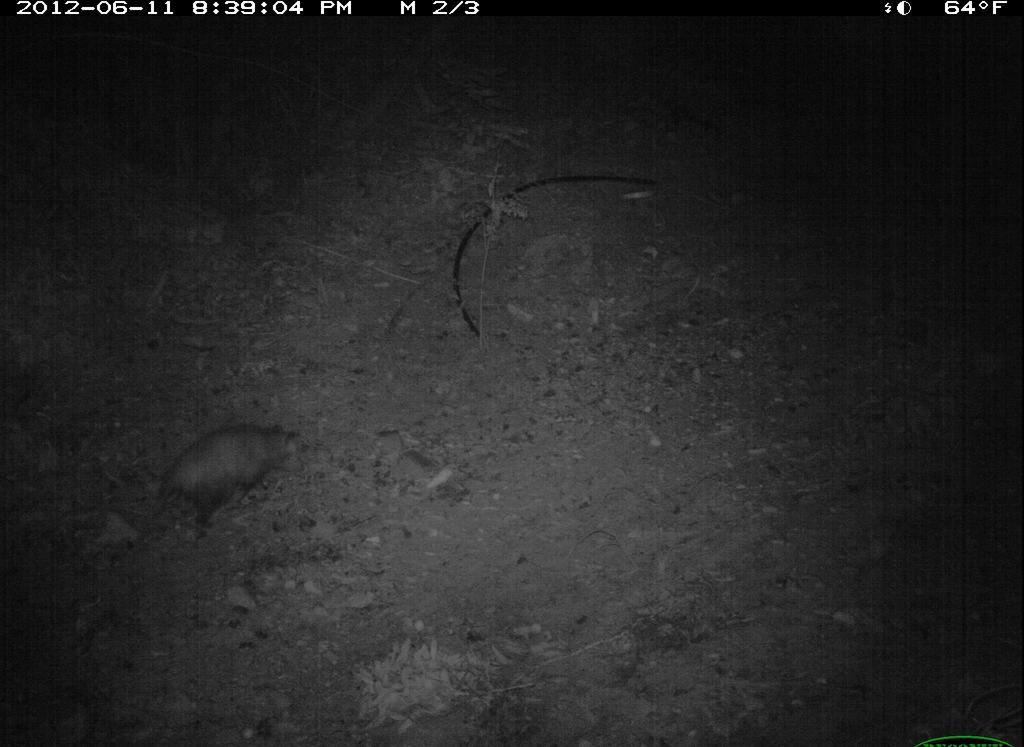opossum: (130, 411, 317, 539)
